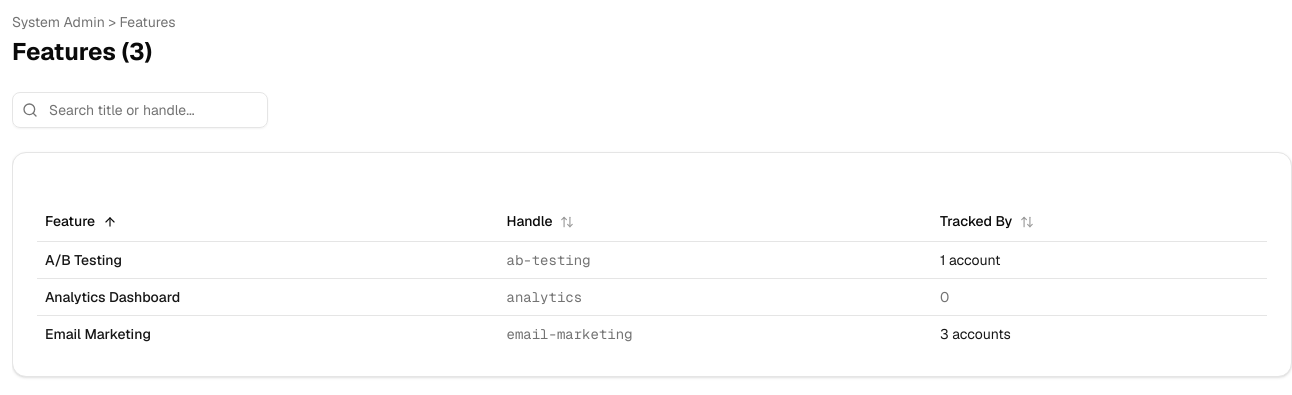
it: FeaturesListPage › filters by search
expect the link "Email Marketing" is shown: met, box [45, 324, 151, 342]
Type "email" into the field with placeholder "Search title or handle..." at point(140, 110), box [12, 92, 268, 128]
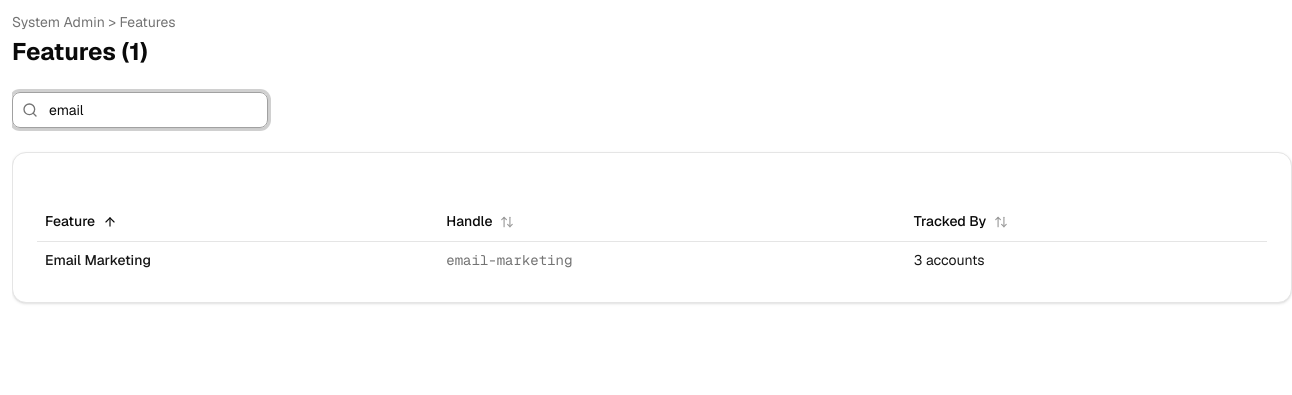
expect the link "Email Marketing" is shown: met, box [45, 250, 151, 268]
expect the link "A/B Testing" is gone: met
expect the link "Analytics Dashboard" is gone: met
